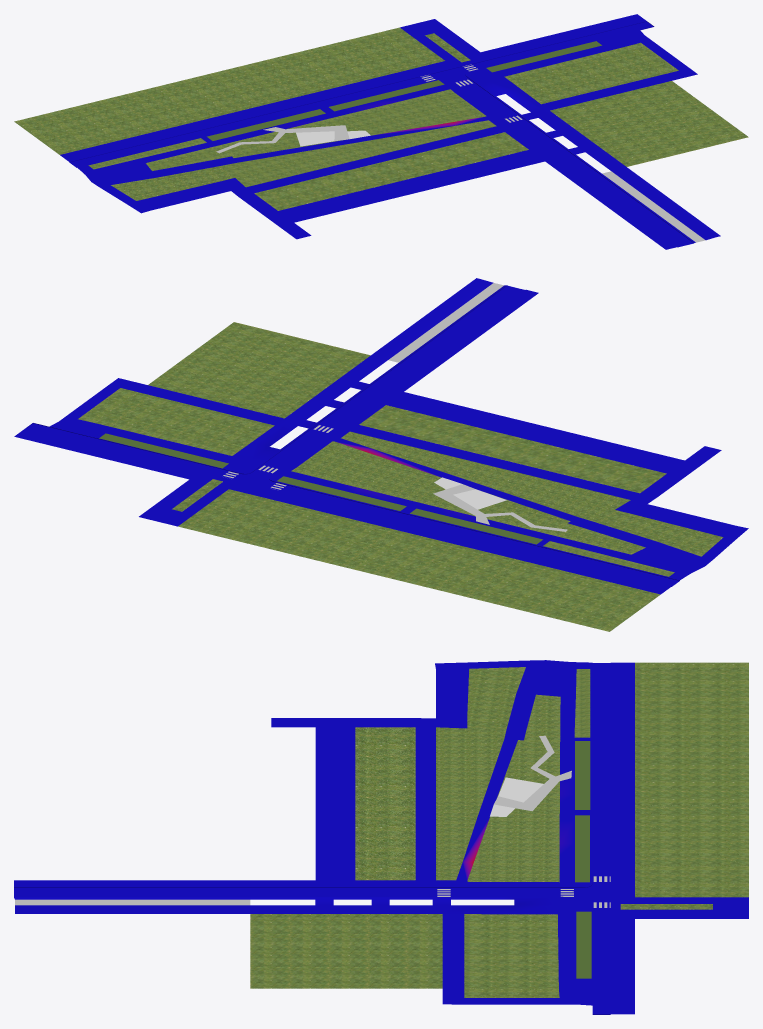
The model's file is Terrain_01.fbx.
3 renders of one model, top to bottom at view 1: azimuth 30°, elevation 25°; view 2: azimuth 150°, elevation 25°; view 3: azimuth 270°, elevation 25°, orthographic. The views are drawn at different scales.
Visible parts, largest first — view 1: SM_Ground_01, SM_Wood_Path, SM_Park; view 2: SM_Ground_01, SM_Wood_Path, SM_Park; view 3: SM_Ground_01, SM_Wood_Path, SM_Park.
Part boxes in pixels (bbox=[...]): SM_Ground_01: bbox=[14, 14, 748, 249]; SM_Wood_Path: bbox=[216, 125, 349, 153]; SM_Park: bbox=[296, 130, 370, 146]; SM_Ground_01: bbox=[14, 278, 748, 631]; SM_Wood_Path: bbox=[433, 484, 567, 531]; SM_Park: bbox=[434, 477, 506, 509]; SM_Ground_01: bbox=[14, 660, 748, 1014]; SM_Wood_Path: bbox=[494, 735, 571, 811]; SM_Park: bbox=[490, 777, 543, 816].
Bounding box in the file's own units: 32408 × 39.48 × 28420.
